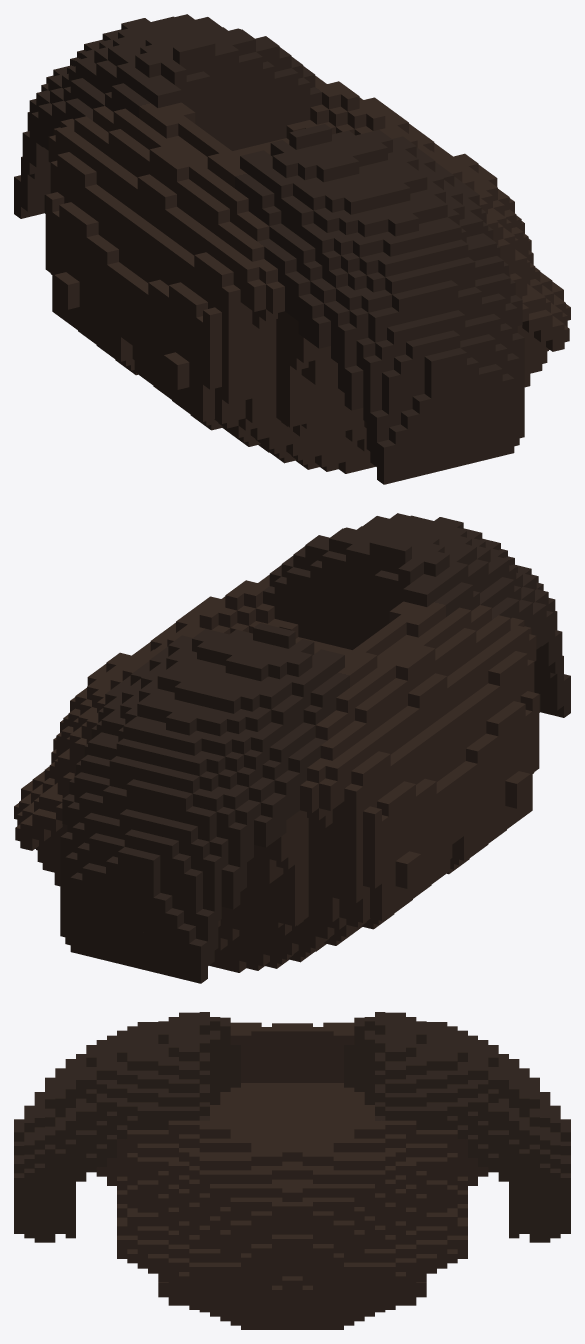
Rendered from Armor_Brigandine_F.obj.
The picture shows the model from 3 angles, top to bottom: view 1: azimuth 30°, elevation 25°; view 2: azimuth 150°, elevation 25°; view 3: azimuth 270°, elevation 25°; orthographic projection. The views are drawn at different scales.
Parts seen in each view (by area): view 1: Armor_Brigandine_F; view 2: Armor_Brigandine_F; view 3: Armor_Brigandine_F.
Boxes of the visible parts, x1,y1,x2,y2 form: Armor_Brigandine_F: [14, 14, 570, 484]; Armor_Brigandine_F: [14, 513, 570, 983]; Armor_Brigandine_F: [14, 1012, 570, 1329].
Bounding box in the file's own units: 33 × 27 × 54.
